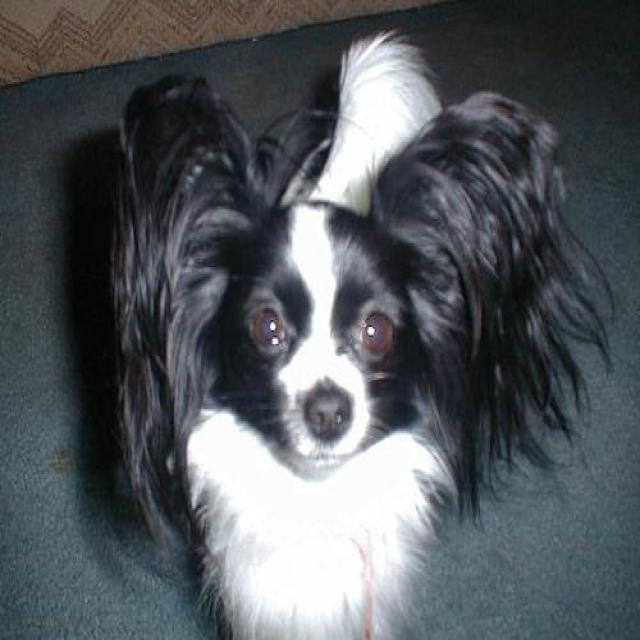papillon: (113, 27, 618, 638)
